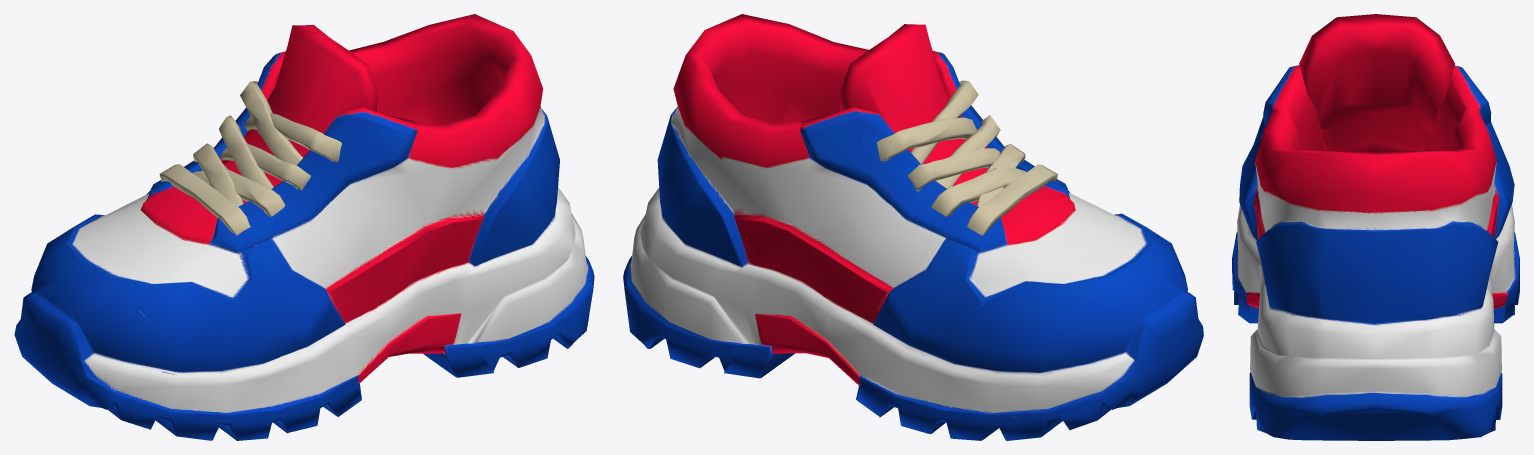
The model's file is running_shoe.glb.
The picture shows the model from 3 angles, left to right: view 1: azimuth 30°, elevation 25°; view 2: azimuth 150°, elevation 25°; view 3: azimuth 270°, elevation 25°; orthographic projection.
Parts seen in each view (by area): view 1: geometry_0; view 2: geometry_0; view 3: geometry_0.
Part boxes in pixels (<box>): geometry_0: <box>14,14,594,440</box>; geometry_0: <box>623,14,1203,440</box>; geometry_0: <box>1232,14,1519,440</box>.
Bounding box in the file's own units: 0.9565 × 0.5479 × 0.4448.
Materials: 1 (1 with a texture image).
